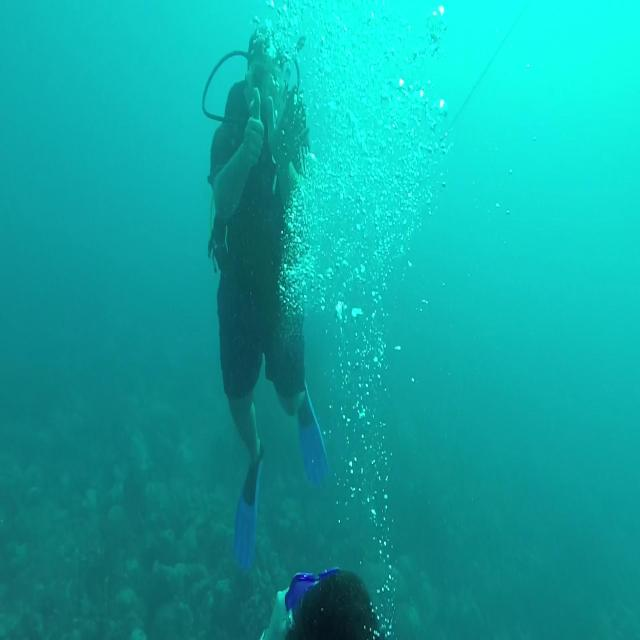human: (206, 22, 329, 570), (259, 566, 379, 639)
